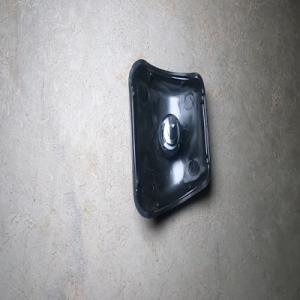LuggagePart: (127, 57, 211, 220)
